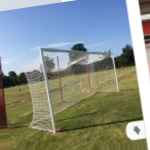goals: (22, 45, 121, 134)
